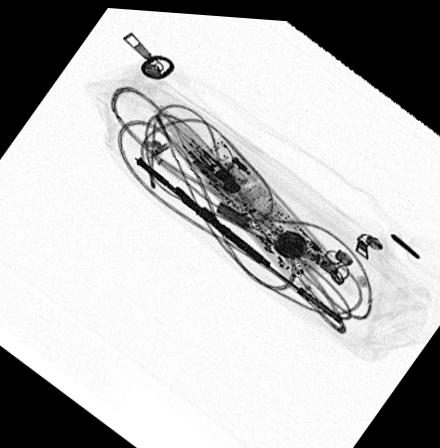Gun: (131, 149, 343, 319)
